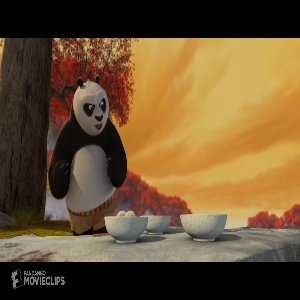po: (47, 72, 130, 235)
